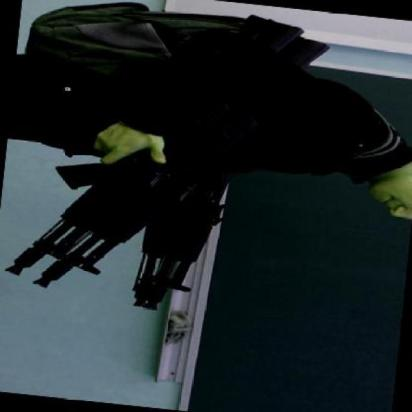Gun: (6, 0, 299, 299), (100, 16, 335, 326)
